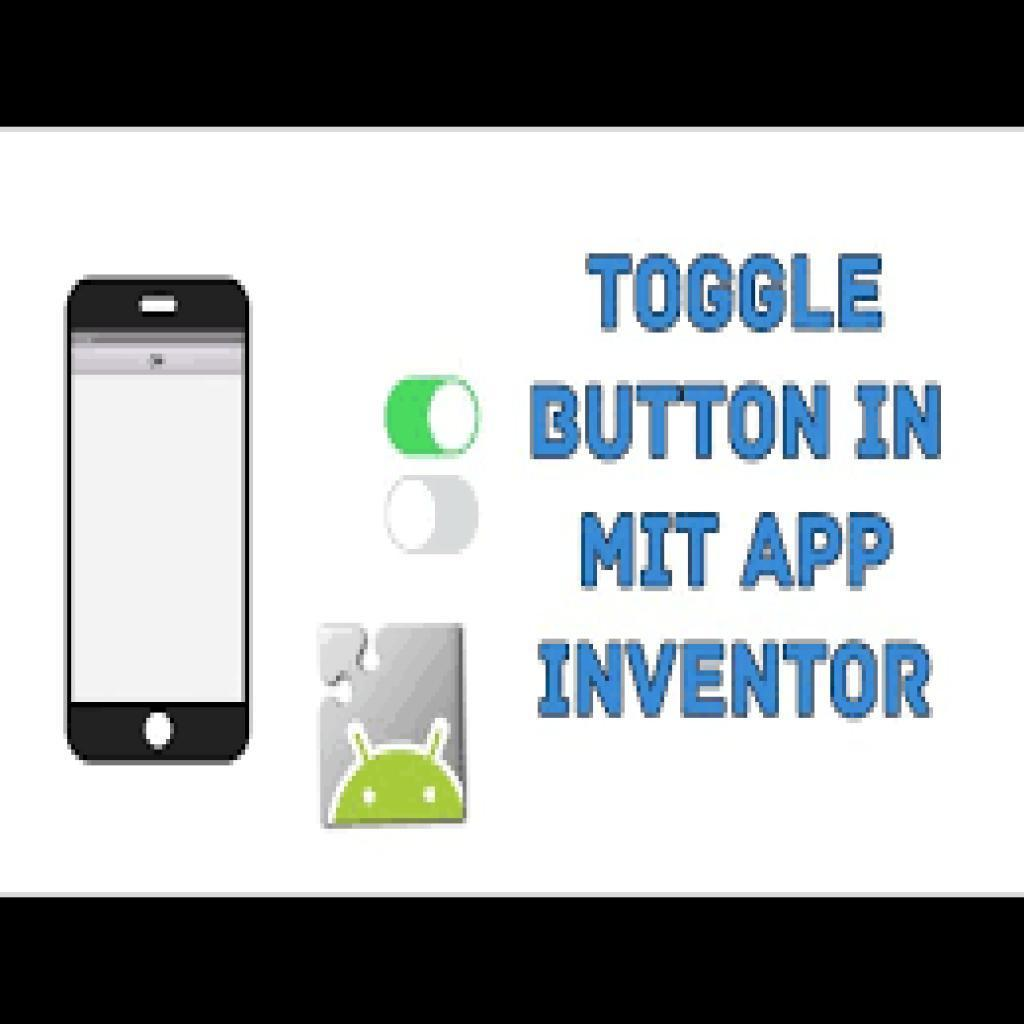switch: (387, 374, 482, 456), (387, 478, 478, 557)
